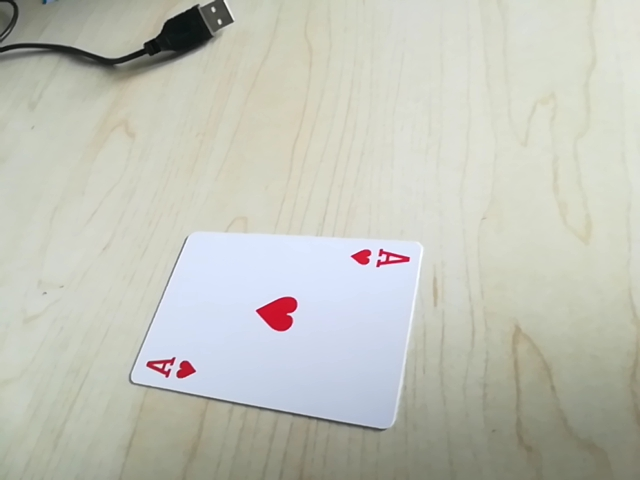hx a: (349, 240, 416, 275), (137, 350, 203, 384)
